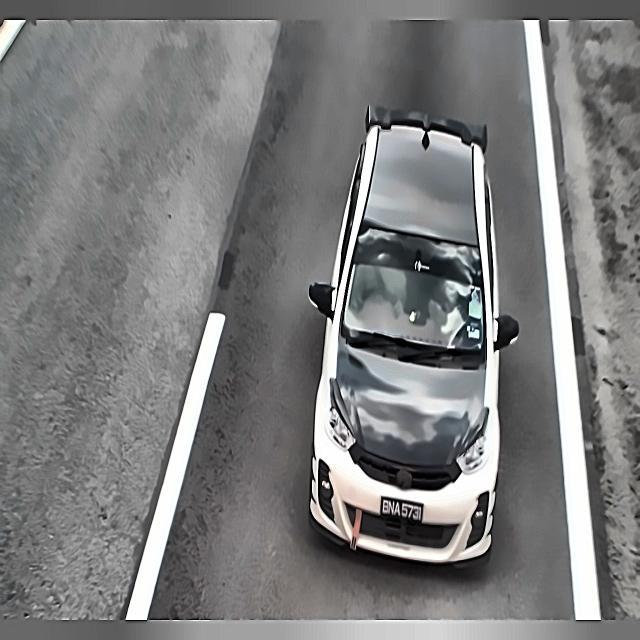car: (374, 488, 428, 529)
